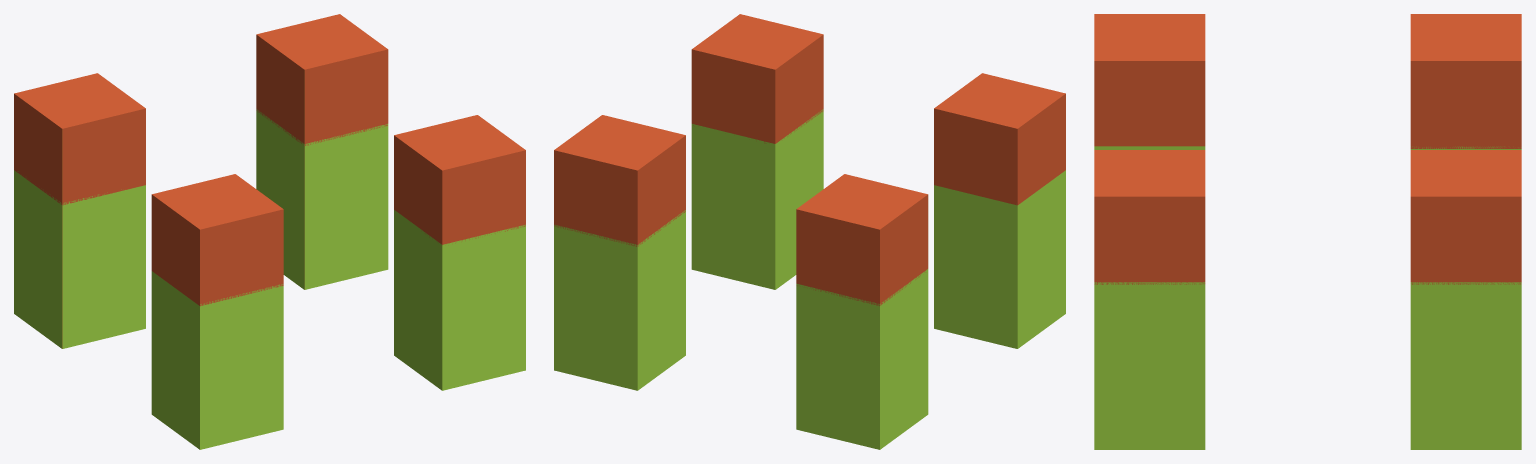
The model's file is flower.fbx.
3 views of the same model, side by side, from view 1: azimuth 30°, elevation 25°; view 2: azimuth 150°, elevation 25°; view 3: azimuth 270°, elevation 25° (orthographic). The views are drawn at different scales.
Visible parts, largest first — view 1: Cube.238; view 2: Cube.238; view 3: Cube.238.
Part boxes in pixels (x1=…): Cube.238: x1=14, y1=14, x2=525, y2=449; Cube.238: x1=554, y1=14, x2=1065, y2=449; Cube.238: x1=1094, y1=14, x2=1521, y2=449.
Size of the model in its own units: 116 by 117 by 75.46.
